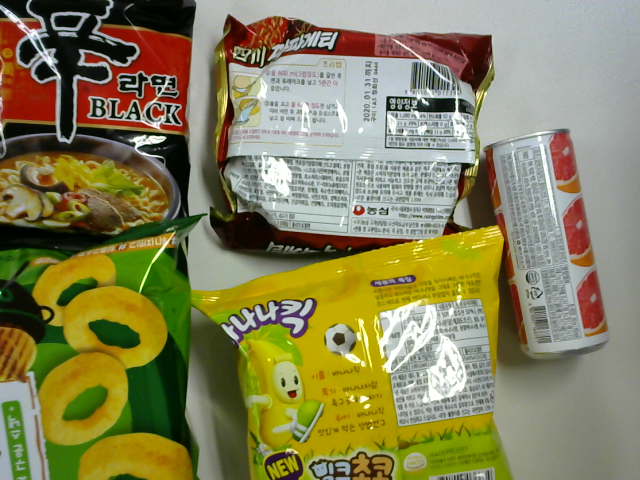Banana_Kick: (191, 234, 513, 480)
Demisoda_Grapefruit_Can_250ml: (485, 128, 615, 358)
Grilled_Onions: (1, 240, 191, 480)
Sichuan_Chapaghetti: (215, 18, 489, 262)
Sinramen_Black: (5, 2, 211, 240)
